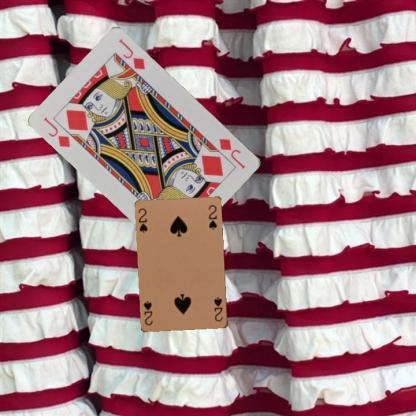2s: (136, 206, 150, 235), (212, 294, 224, 324)
Jd: (216, 136, 248, 171), (41, 114, 72, 149)
